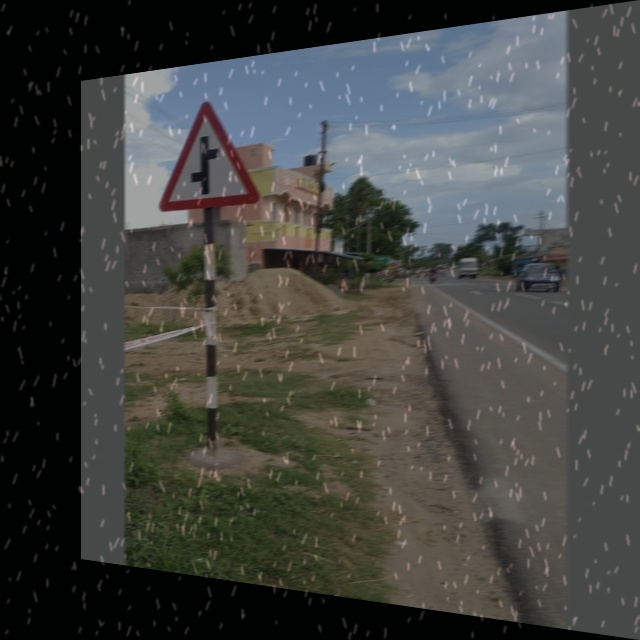Staggered_Intersection: (160, 85, 261, 218)
